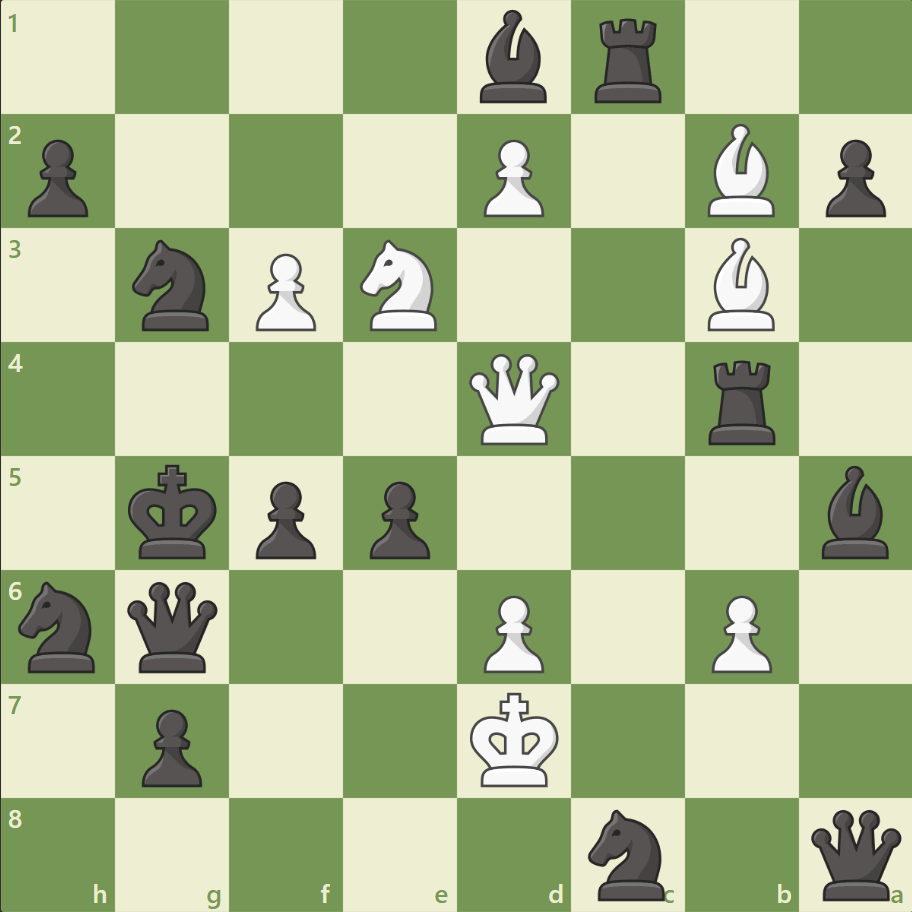B: (698, 233, 782, 336), (698, 120, 782, 222)
K: (465, 685, 565, 793)
N: (351, 234, 449, 337)
P: (701, 586, 776, 677), (474, 586, 549, 677), (247, 246, 322, 337), (474, 132, 549, 223)
Q: (464, 349, 563, 449)
b: (812, 460, 896, 563), (471, 6, 555, 109)
k: (124, 458, 224, 566)
n: (124, 234, 222, 337), (579, 802, 676, 904), (11, 575, 108, 677)
p: (133, 700, 208, 791), (247, 473, 322, 564), (20, 132, 95, 223), (361, 473, 435, 564), (815, 132, 889, 223)
q: (124, 576, 223, 676), (805, 804, 904, 903)
r: (700, 352, 783, 449), (587, 12, 670, 109)
